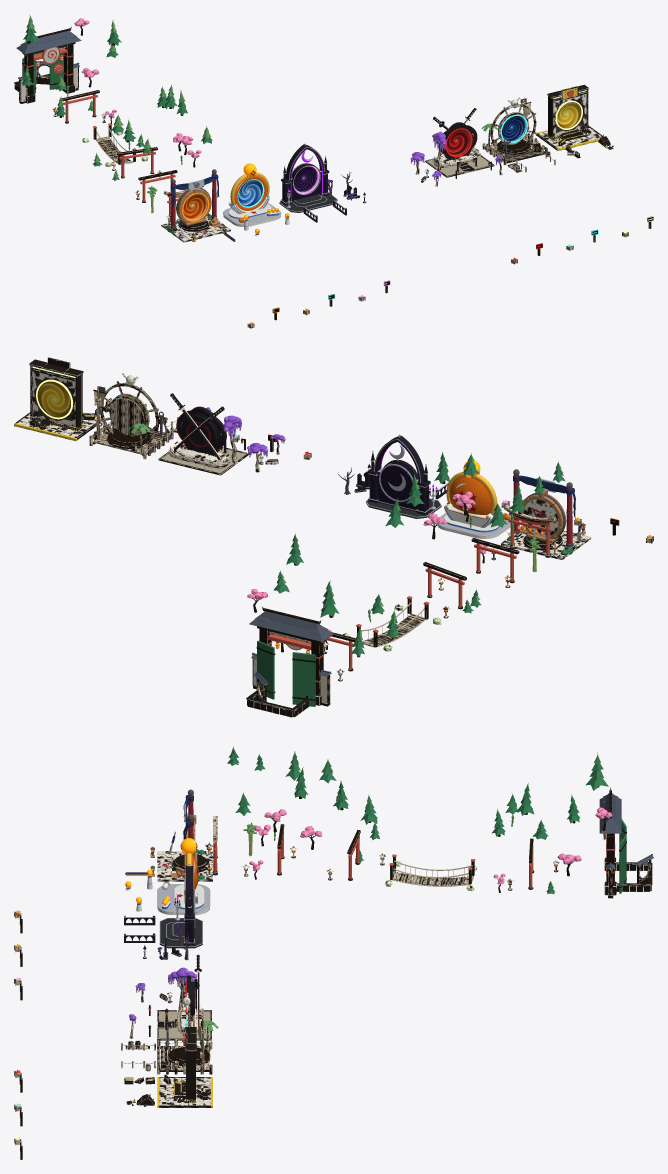
The model's file is LOBBY_06_PORTALS_286566.fbx.
The picture shows the model from 3 angles, top to bottom: view 1: azimuth 30°, elevation 25°; view 2: azimuth 150°, elevation 25°; view 3: azimuth 270°, elevation 25°; orthographic projection. The views are drawn at different scales.
Parts seen in each view (by area): view 1: KONOHA_Trees__Leaf_Pine, PORTAL_OnePunchMan_Wall__P_OPM_ConcreteLight, KONOHA_Great_Gate__Wood_Dark, KONOHA_Trees__Leaf_Pine_Light, PORTAL_ShadowGarden_MoonArch__P_SG_Obsidian, KONOHA_Great_Gate__P_Naruto_Tile, KONOHA_Pass_Decor__P_Naruto_Red, PORTAL_DemonSlayer_Tsuba__Stone_DS_Rock, PORTAL_DragonBall_Frame__P_DB_White, PORTAL_OnePiece_Pier__Wood_Light, PORTAL_ShadowGarden_MoonArch__P_OPM_Crater, PORTAL_DemonSlayer_Tsuba__P_DS_Iron (+13 smaller); view 2: KONOHA_Trees__Leaf_Pine, KONOHA_Great_Gate__Leaf_Pine, PORTAL_DemonSlayer_Tsuba__P_DS_Iron, PORTAL_OnePunchMan_Wall__P_OPM_ConcreteLight, PORTAL_OnePiece_Pier__Wood_Dark, KONOHA_Great_Gate__Wood_Dark, KONOHA_Pass_Decor__P_Naruto_Red, KONOHA_Great_Gate__P_Naruto_Tile, PORTAL_ShadowGarden_MoonArch__P_SG_Violet, PORTAL_ShadowGarden_MoonArch__P_SG_Obsidian, PORTAL_Naruto_Bandana__Stone_Dark_C, PORTAL_OnePunchMan_Wall__P_OPM_ConcreteDark (+13 smaller); view 3: KONOHA_Trees__Leaf_Pine, PORTAL_OnePunchMan_Wall__P_OPM_ConcreteLight, KONOHA_Trees__Sakura_Pink, PORTAL_ShadowGarden_MoonArch__P_OPM_Crater, KONOHA_Great_Gate__P_Naruto_Tile, PORTAL_OnePunchMan_Wall__P_OPM_ConcreteDark, PORTAL_OnePiece_Pier__Wood_Dark, KONOHA_Great_Gate__Wood_Dark, PORTAL_ShadowGarden_MoonArch__P_SG_Obsidian, PORTAL_DemonSlayer_Tsuba__Stone_DS_Rock, PORTAL_Naruto_Bandana__Stone_Light, PORTAL_DragonBall_Frame__P_DB_White (+4 smaller).
Part boxes in pixels (x1=…): KONOHA_Trees__Leaf_Pine: x1=21, y1=23, x2=212, y2=180; PORTAL_OnePunchMan_Wall__P_OPM_ConcreteLight: x1=536, y1=88, x2=602, y2=149; KONOHA_Great_Gate__Wood_Dark: x1=19, y1=27, x2=78, y2=101; KONOHA_Trees__Leaf_Pine_Light: x1=24, y1=14, x2=210, y2=197; PORTAL_ShadowGarden_MoonArch__P_SG_Obsidian: x1=281, y1=144, x2=329, y2=205; KONOHA_Great_Gate__P_Naruto_Tile: x1=16, y1=30, x2=81, y2=80; KONOHA_Pass_Decor__P_Naruto_Red: x1=63, y1=94, x2=180, y2=214; PORTAL_DemonSlayer_Tsuba__Stone_DS_Rock: x1=424, y1=147, x2=494, y2=177; PORTAL_DragonBall_Frame__P_DB_White: x1=223, y1=166, x2=280, y2=226; PORTAL_OnePiece_Pier__Wood_Light: x1=490, y1=102, x2=536, y2=149; PORTAL_ShadowGarden_MoonArch__P_OPM_Crater: x1=279, y1=194, x2=337, y2=212; PORTAL_DemonSlayer_Tsuba__P_DS_Iron: x1=433, y1=108, x2=476, y2=169; KONOHA_Trees__Leaf_Pine: x1=273, y1=453, x2=565, y2=656; KONOHA_Great_Gate__Leaf_Pine: x1=257, y1=640, x2=315, y2=706; PORTAL_DemonSlayer_Tsuba__P_DS_Iron: x1=170, y1=393, x2=226, y2=459; PORTAL_OnePunchMan_Wall__P_OPM_ConcreteLight: x1=15, y1=364, x2=102, y2=439; PORTAL_OnePiece_Pier__Wood_Dark: x1=93, y1=386, x2=182, y2=459; KONOHA_Great_Gate__Wood_Dark: x1=252, y1=606, x2=330, y2=703; KONOHA_Pass_Decor__P_Naruto_Red: x1=326, y1=513, x2=551, y2=669; KONOHA_Great_Gate__P_Naruto_Tile: x1=249, y1=611, x2=333, y2=684; PORTAL_ShadowGarden_MoonArch__P_SG_Violet: x1=371, y1=462, x2=437, y2=509; PORTAL_ShadowGarden_MoonArch__P_SG_Obsidian: x1=368, y1=435, x2=430, y2=514; PORTAL_Naruto_Bandana__Stone_Dark_C: x1=501, y1=499, x2=591, y2=559; PORTAL_OnePunchMan_Wall__P_OPM_ConcreteDark: x1=14, y1=357, x2=100, y2=441; KONOHA_Trees__Leaf_Pine: x1=227, y1=747, x2=608, y2=894; PORTAL_OnePunchMan_Wall__P_OPM_ConcreteLight: x1=159, y1=1050, x2=210, y2=1107; KONOHA_Trees__Sakura_Pink: x1=249, y1=807, x2=612, y2=884; PORTAL_ShadowGarden_MoonArch__P_OPM_Crater: x1=159, y1=918, x2=202, y2=948; KONOHA_Great_Gate__P_Naruto_Tile: x1=599, y1=793, x2=653, y2=869; PORTAL_OnePunchMan_Wall__P_OPM_ConcreteDark: x1=157, y1=1027, x2=212, y2=1107; PORTAL_OnePiece_Pier__Wood_Dark: x1=121, y1=1015, x2=212, y2=1074; KONOHA_Great_Gate__Wood_Dark: x1=606, y1=787, x2=651, y2=895; PORTAL_ShadowGarden_MoonArch__P_SG_Obsidian: x1=184, y1=866, x2=194, y2=945; PORTAL_DemonSlayer_Tsuba__Stone_DS_Rock: x1=157, y1=1004, x2=211, y2=1040; PORTAL_Naruto_Bandana__Stone_Light: x1=157, y1=851, x2=212, y2=879; PORTAL_DragonBall_Frame__P_DB_White: x1=157, y1=839, x2=209, y2=914.
Bounding box in the file's own units: 250 × 79.13 × 258.
53 materials, 9 textured.
